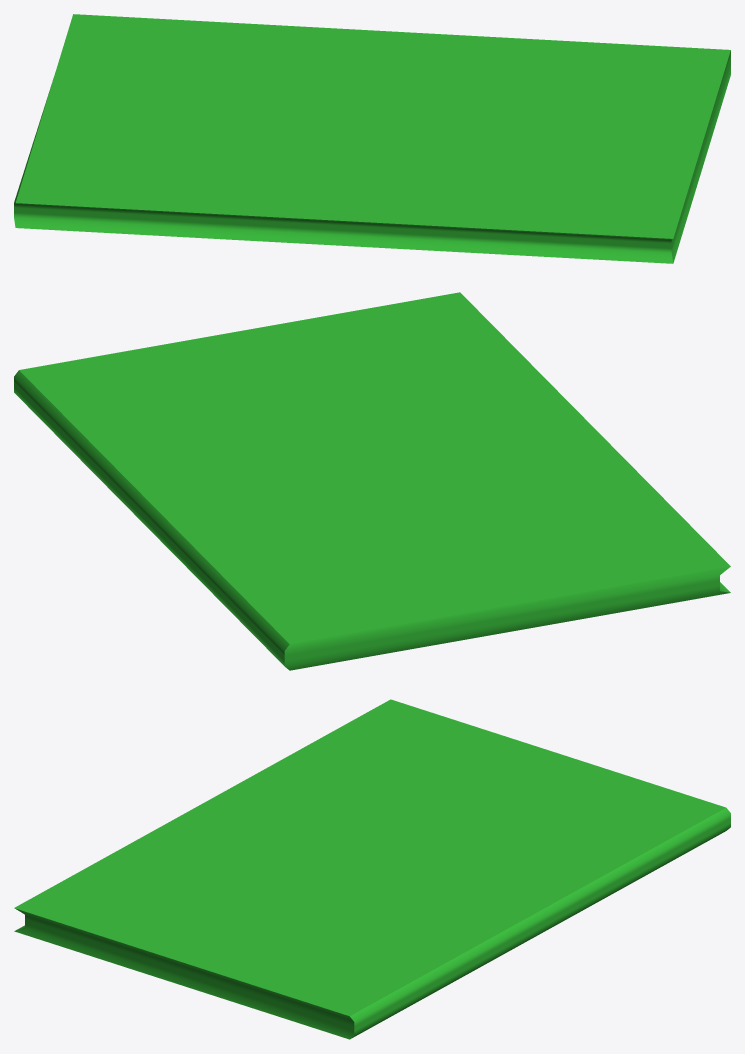
Rendered from Single Magazine.fbx.
The picture shows the model from 3 angles, top to bottom: view 1: azimuth 30°, elevation 25°; view 2: azimuth 150°, elevation 25°; view 3: azimuth 270°, elevation 25°; orthographic projection. The views are drawn at different scales.
Parts seen in each view (by area): view 1: Box048; view 2: Box048; view 3: Box048.
Part boxes in pixels (x1=…): Box048: x1=14, y1=14, x2=730, y2=263; Box048: x1=14, y1=292, x2=730, y2=670; Box048: x1=14, y1=699, x2=730, y2=1039.
Size of the model in its own units: 95.85 by 3.28 by 91.34.
